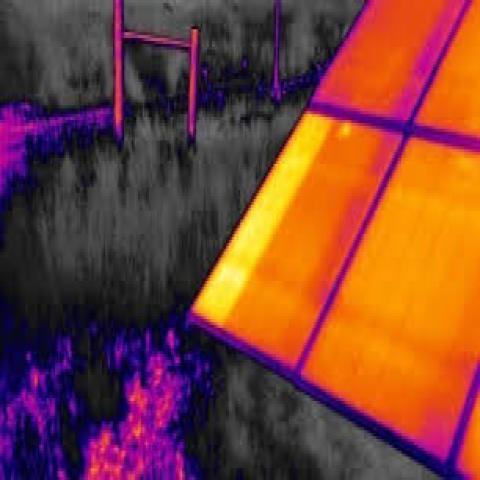fault: (198, 249, 246, 331), (259, 161, 306, 217), (290, 105, 330, 167), (235, 211, 278, 263), (339, 123, 353, 143)
